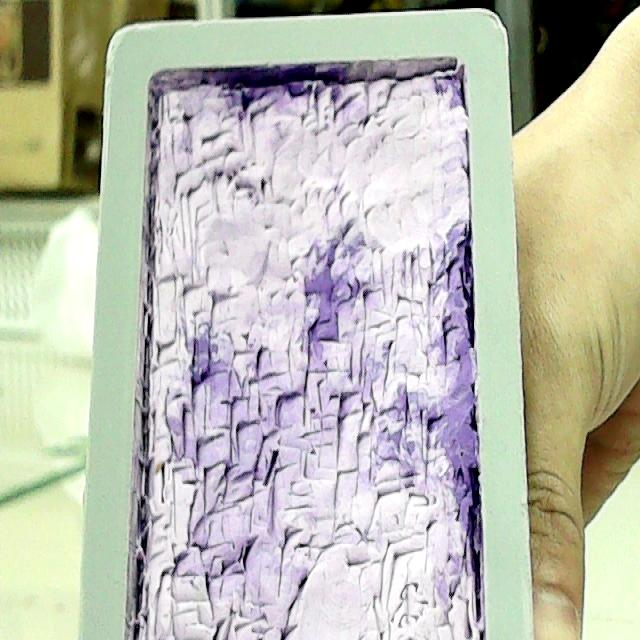block: (72, 9, 540, 634)
